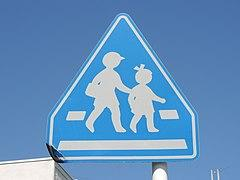Pedestrian Crossing: (38, 14, 202, 163)
